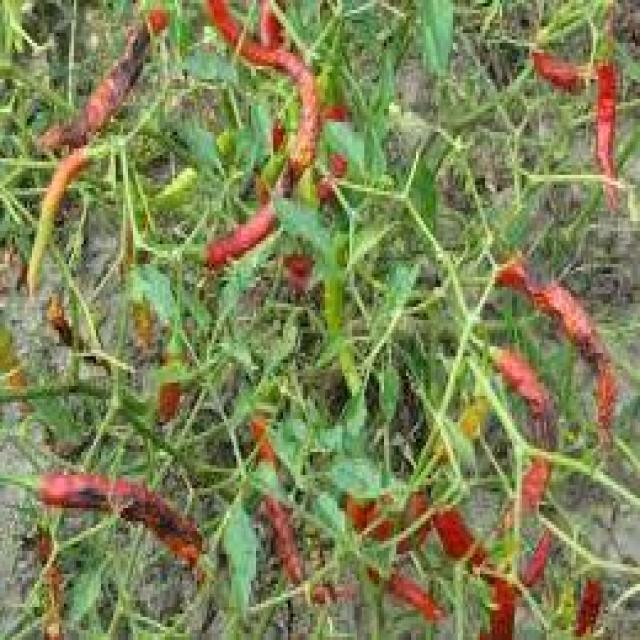Moko: (496, 235, 632, 467), (58, 453, 201, 579), (478, 333, 556, 522), (244, 115, 330, 217)
